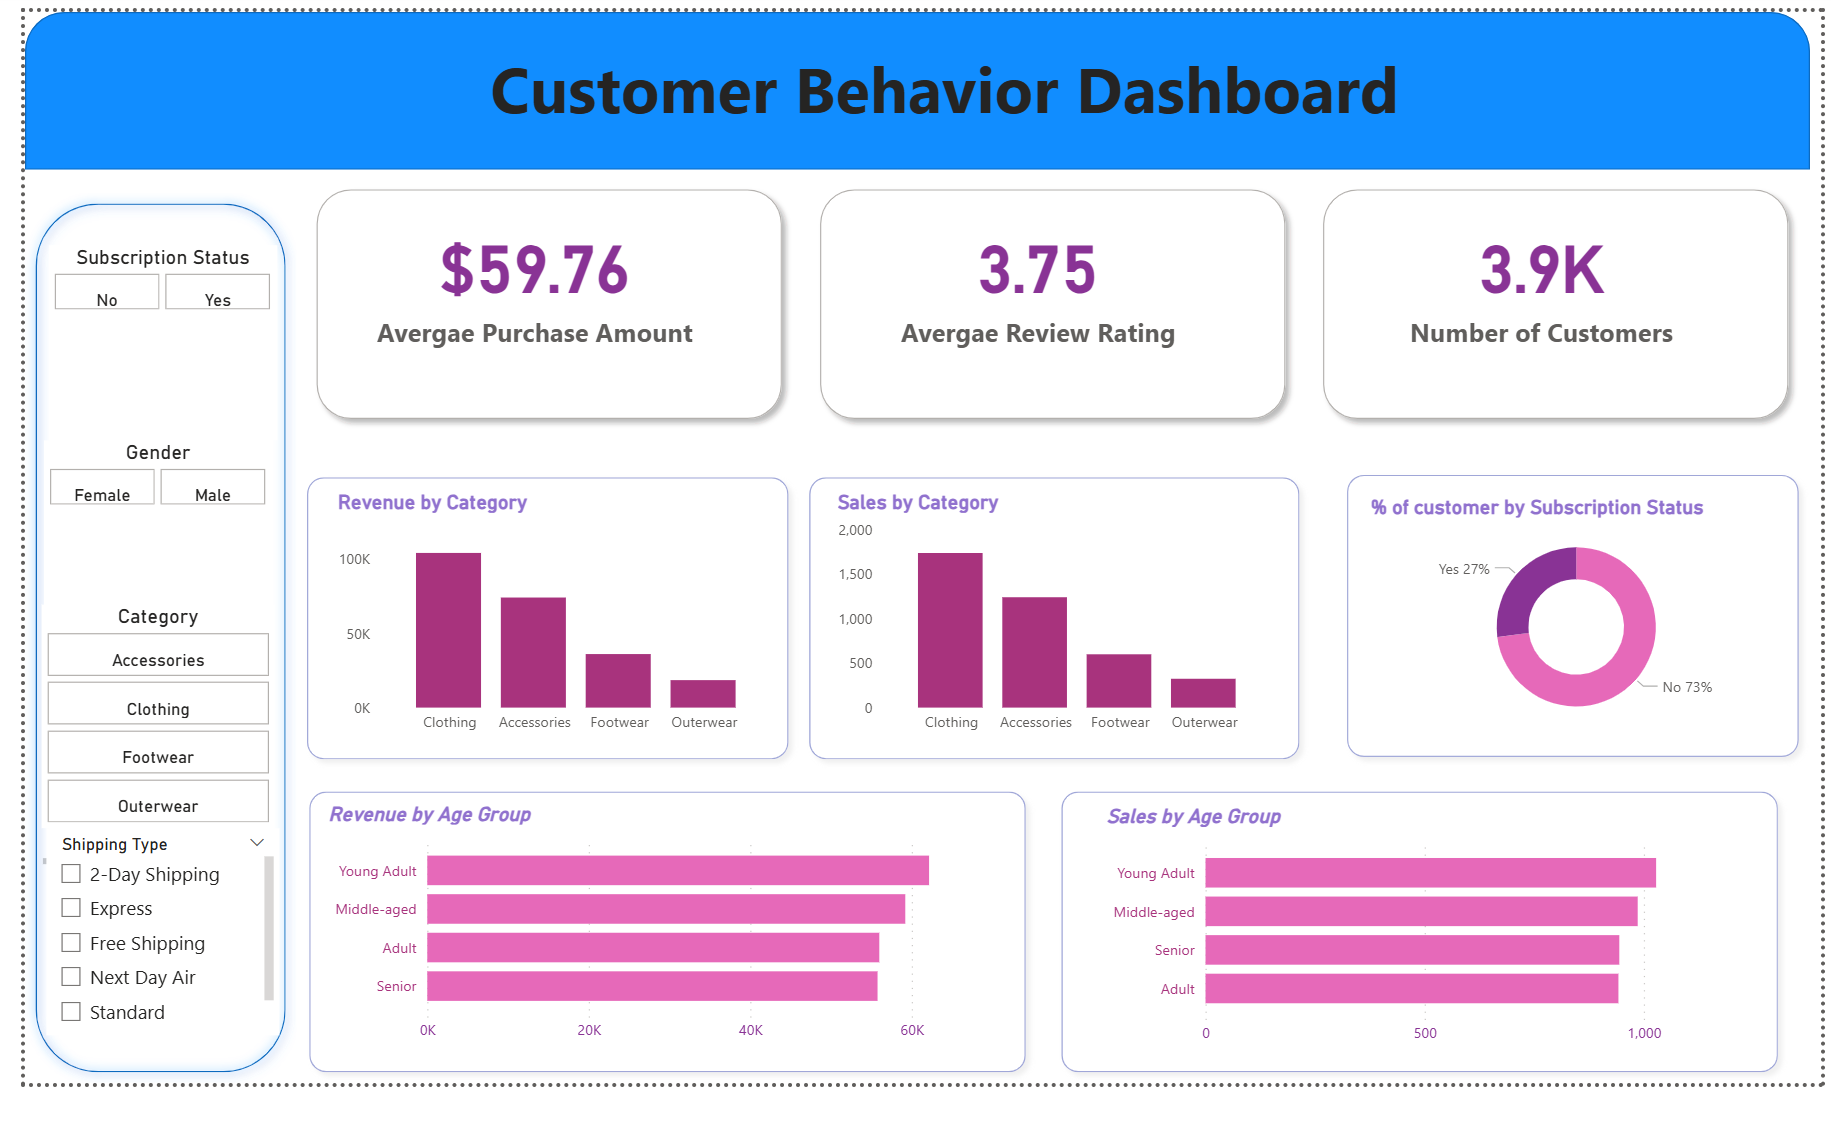

This screenshot's page, from the dashboard's own definition file:
{"tool":"powerbi","page":{"name":"Page 1","canvas":[1509,900],"ordinal":0},"visuals":[{"type":"cardVisual","fields":{"Data":["public customer.Avergae Purchase Amount","public customer.Avergae Review Rating","public customer.Number of Customers"]},"box":[227.5,132.5,1272.5,227.5],"z":0},{"type":"shape","box":[0,0,1500,132.5],"z":1000},{"type":"textbox","box":[10,705,13.3,15],"z":2000},{"type":"textbox","box":[385,22.5,850,110],"z":3000},{"type":"shape","box":[1102.5,380,397.5,255],"z":4000},{"type":"donutChart","title":"% of customer by Subscription Status","fields":{"Category":["public customer.subscription_status"],"Y":["CountNonNull(public customer.customer_id)"]},"box":[1125,405,355,202.5],"z":5000},{"type":"shape","box":[227.5,382.5,422.5,255],"z":6000},{"type":"shape","box":[650,382.5,430,255],"z":7000},{"type":"clusteredColumnChart","title":"Revenue by Category","fields":{"Y":["Sum(public customer.purchase_amount)"],"Category":["public customer.category"]},"box":[257.5,402.5,375,212.5],"z":8000},{"type":"clusteredColumnChart","title":"Sales by Category","fields":{"Category":["public customer.category"],"Y":["CountNonNull(public customer.customer_id)"]},"box":[677.5,402.5,375,212.5],"z":9000},{"type":"shape","box":[0,152,228,748],"z":10000},{"type":"clusteredBarChart","title":"Subscription Status","fields":{"Category":["public customer.age_group"],"Y":["Sum(public customer.purchase_amount)"]},"box":[245,688.3,388.3,186.7],"z":11000},{"type":"advancedSlicerVisual","title":"Gender","fields":{"Values":["public customer.gender"]},"box":[16,360,192,164],"z":12000},{"type":"advancedSlicerVisual","title":"Category","fields":{"Values":["public customer.category"]},"box":[14,498,196,188],"z":13000},{"type":"slicer","title":"Shipping Type","fields":{"Values":["public customer.shipping_type"]},"box":[18,686,196,174],"z":14000},{"type":"shape","box":[230,646,620,254],"z":15000},{"type":"advancedSlicerVisual","title":"Subscription Status","fields":{"Values":["public customer.subscription_status"]},"box":[20,196,192,164],"z":16000},{"type":"clusteredBarChart","title":"Revenue by Age Group","fields":{"Y":["Sum(public customer.purchase_amount)"],"Category":["public customer.age_group"]},"box":[250,664,578,210],"z":17000},{"type":"shape","box":[862,646,620,254],"z":18000},{"type":"clusteredBarChart","title":"Sales by Age Group","fields":{"Category":["public customer.age_group"],"Y":["CountNonNull(public customer.customer_id)"]},"box":[904,666,550,210],"z":18001}]}

Visuals, with their boxes on the page's 1509x900 design canvas (x1, y1, x2, y2). These are canvas units, not pixel positions in the 1831x1131 screenshot, which may show the page scaled, cropped or inside an application window:
cardVisual - public customer.Avergae Purchase Amount x public customer.Avergae Review Rating: crop(228, 132, 1500, 360)
shape: crop(0, 0, 1500, 132)
textbox: crop(10, 705, 23, 720)
textbox: crop(385, 22, 1235, 132)
shape: crop(1102, 380, 1500, 635)
"% of customer by Subscription Status" donutChart: crop(1125, 405, 1480, 608)
shape: crop(228, 382, 650, 638)
shape: crop(650, 382, 1080, 638)
"Revenue by Category" clusteredColumnChart: crop(258, 402, 632, 615)
"Sales by Category" clusteredColumnChart: crop(678, 402, 1052, 615)
shape: crop(0, 152, 228, 900)
"Subscription Status" clusteredBarChart: crop(245, 688, 633, 875)
"Gender" advancedSlicerVisual: crop(16, 360, 208, 524)
"Category" advancedSlicerVisual: crop(14, 498, 210, 686)
"Shipping Type" slicer: crop(18, 686, 214, 860)
shape: crop(230, 646, 850, 900)
"Subscription Status" advancedSlicerVisual: crop(20, 196, 212, 360)
"Revenue by Age Group" clusteredBarChart: crop(250, 664, 828, 874)
shape: crop(862, 646, 1482, 900)
"Sales by Age Group" clusteredBarChart: crop(904, 666, 1454, 876)
